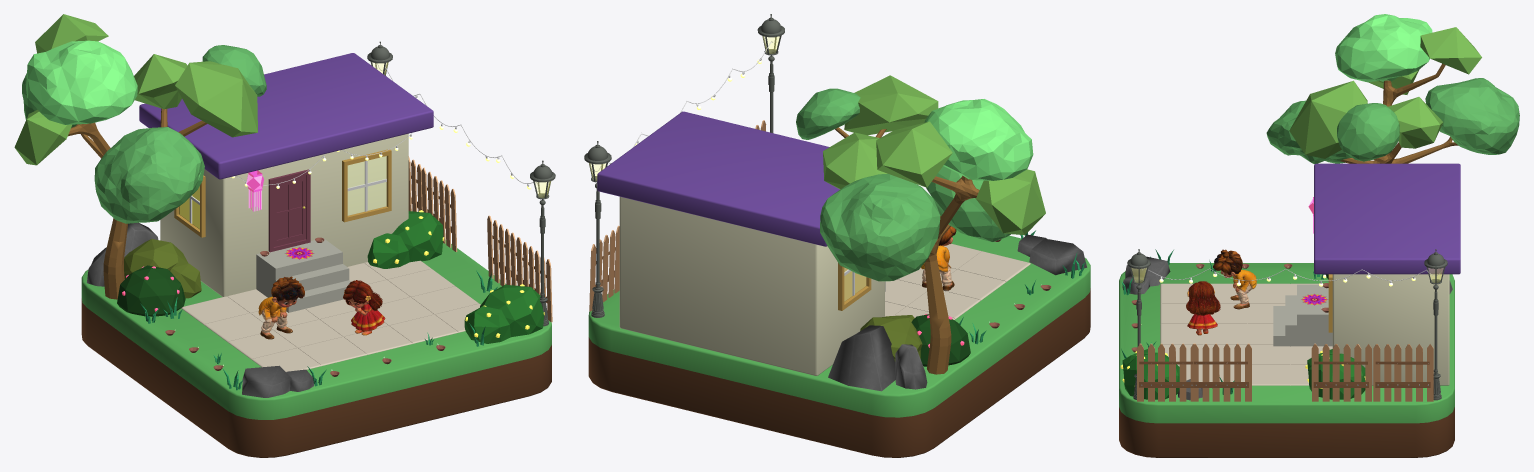
The picture shows the model from 3 angles, left to right: view 1: azimuth 30°, elevation 25°; view 2: azimuth 150°, elevation 25°; view 3: azimuth 270°, elevation 25°; orthographic projection. The views are drawn at different scales.
Visible parts, largest first — view 1: Base_Platform, House_Walls, House_Roof, Tiles, Object_4, Object_2, Object_3, Fence.001, Stairs, Object_24.002, Door, Object_24.001 (+11 smaller); view 2: Base_Platform, House_Walls, House_Roof, Object_2, Object_4, Object_3, Tiles, Object_5, Object_5.002, Lamps, Fence.001, Object_3.002 (+5 smaller); view 3: Base_Platform, House_Roof, Fence.001, House_Walls, Object_2, Tiles, Object_4, Object_3, Stairs, Lamps, Object_5, Mesh_0.002 (+4 smaller).
Boxes of the visible parts, x1=… form: Base_Platform: x1=81, y1=240, x2=551, y2=457; House_Walls: x1=160, y1=133, x2=408, y2=296; House_Roof: x1=139, y1=53, x2=433, y2=179; Tiles: x1=181, y1=260, x2=480, y2=371; Object_4: x1=14, y1=14, x2=257, y2=165; Object_2: x1=22, y1=45, x2=266, y2=223; Object_3: x1=26, y1=40, x2=137, y2=124; Fence.001: x1=408, y1=156, x2=552, y2=322; Stairs: x1=256, y1=238, x2=350, y2=312; Object_24.002: x1=464, y1=284, x2=544, y2=343; Door: x1=268, y1=169, x2=310, y2=252; Object_24.001: x1=367, y1=211, x2=443, y2=268; Base_Platform: x1=588, y1=230, x2=1090, y2=457; House_Walls: x1=619, y1=196, x2=884, y2=375; House_Roof: x1=597, y1=111, x2=839, y2=246; Object_2: x1=796, y1=88, x2=1011, y2=281; Object_4: x1=823, y1=75, x2=1045, y2=235; Object_3: x1=924, y1=99, x2=1033, y2=180; Tiles: x1=885, y1=243, x2=1030, y2=319; Object_5: x1=835, y1=127, x2=979, y2=374; Object_5.002: x1=828, y1=325, x2=895, y2=391; Lamps: x1=584, y1=14, x2=784, y2=317; Fence.001: x1=589, y1=120, x2=766, y2=311; Object_3.002: x1=1029, y1=239, x2=1086, y2=275; Base_Platform: x1=1119, y1=263, x2=1454, y2=457; House_Roof: x1=1314, y1=163, x2=1460, y2=274; Fence.001: x1=1137, y1=343, x2=1433, y2=401; House_Walls: x1=1332, y1=274, x2=1449, y2=385; Object_2: x1=1266, y1=78, x2=1519, y2=163; Tiles: x1=1160, y1=283, x2=1332, y2=385; Object_4: x1=1289, y1=27, x2=1481, y2=158; Object_3: x1=1335, y1=14, x2=1432, y2=82; Stairs: x1=1273, y1=284, x2=1332, y2=346; Lamps: x1=1127, y1=249, x2=1447, y2=400; Object_5: x1=1340, y1=63, x2=1458, y2=163; Mesh_0.002: x1=1186, y1=281, x2=1220, y2=335.
Size of the model in its own units: 0.1741 by 0.133 by 0.1671.
Materials: 37 (8 with a texture image).
